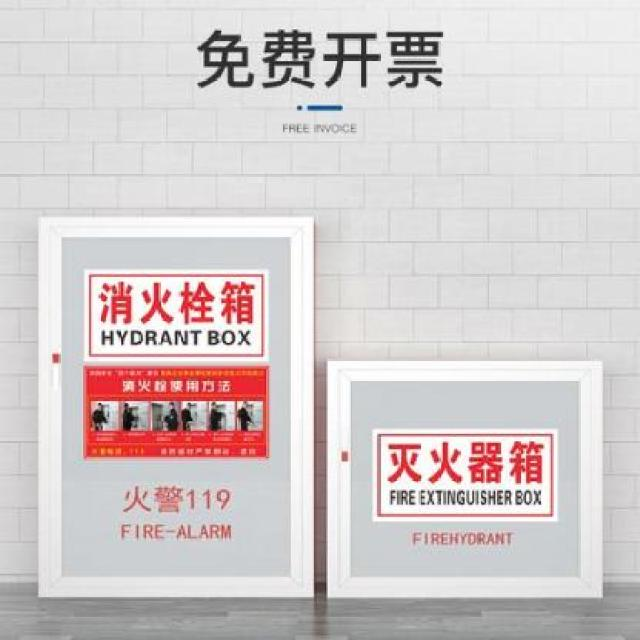firehydrant: (36, 211, 320, 603), (323, 357, 609, 604)
